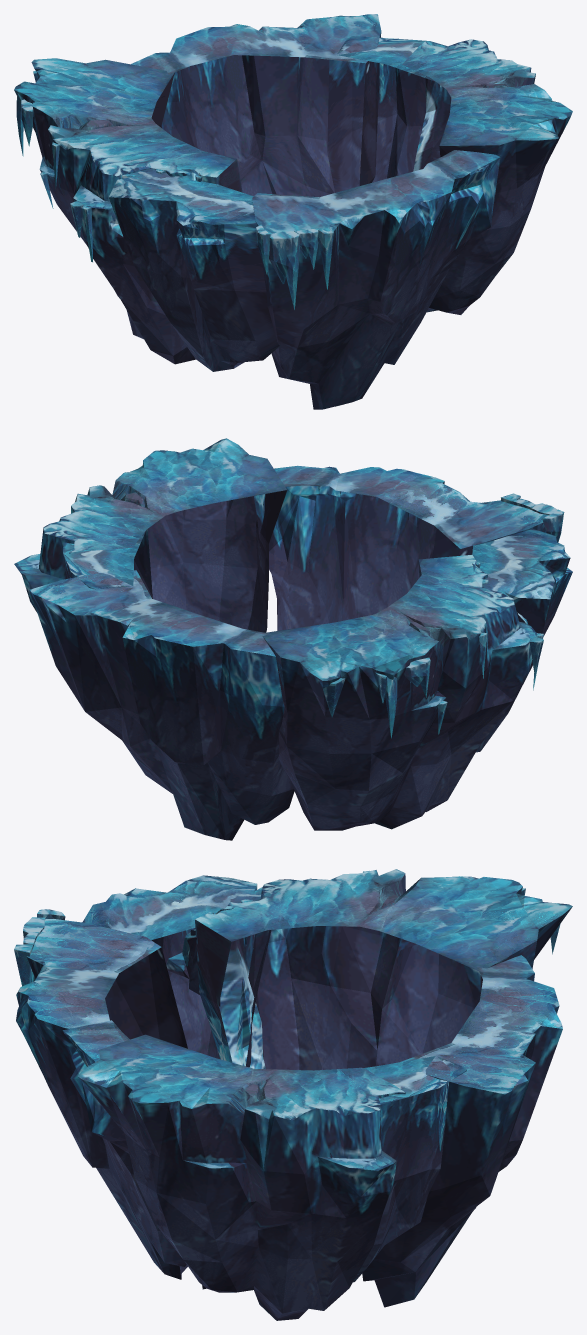
File: xs_taizi_2.FBX
3 renders of one model, top to bottom at view 1: azimuth 30°, elevation 25°; view 2: azimuth 150°, elevation 25°; view 3: azimuth 270°, elevation 25°, orthographic. The views are drawn at different scales.
Visible parts, largest first — view 1: xs_taizi_2; view 2: xs_taizi_2; view 3: xs_taizi_2.
Boxes of the visible parts, bbox=[...] form: xs_taizi_2: bbox=[14, 14, 572, 409]; xs_taizi_2: bbox=[14, 438, 572, 840]; xs_taizi_2: bbox=[14, 869, 572, 1320].
Size of the model in its own units: 17006 by 15140 by 8969.
